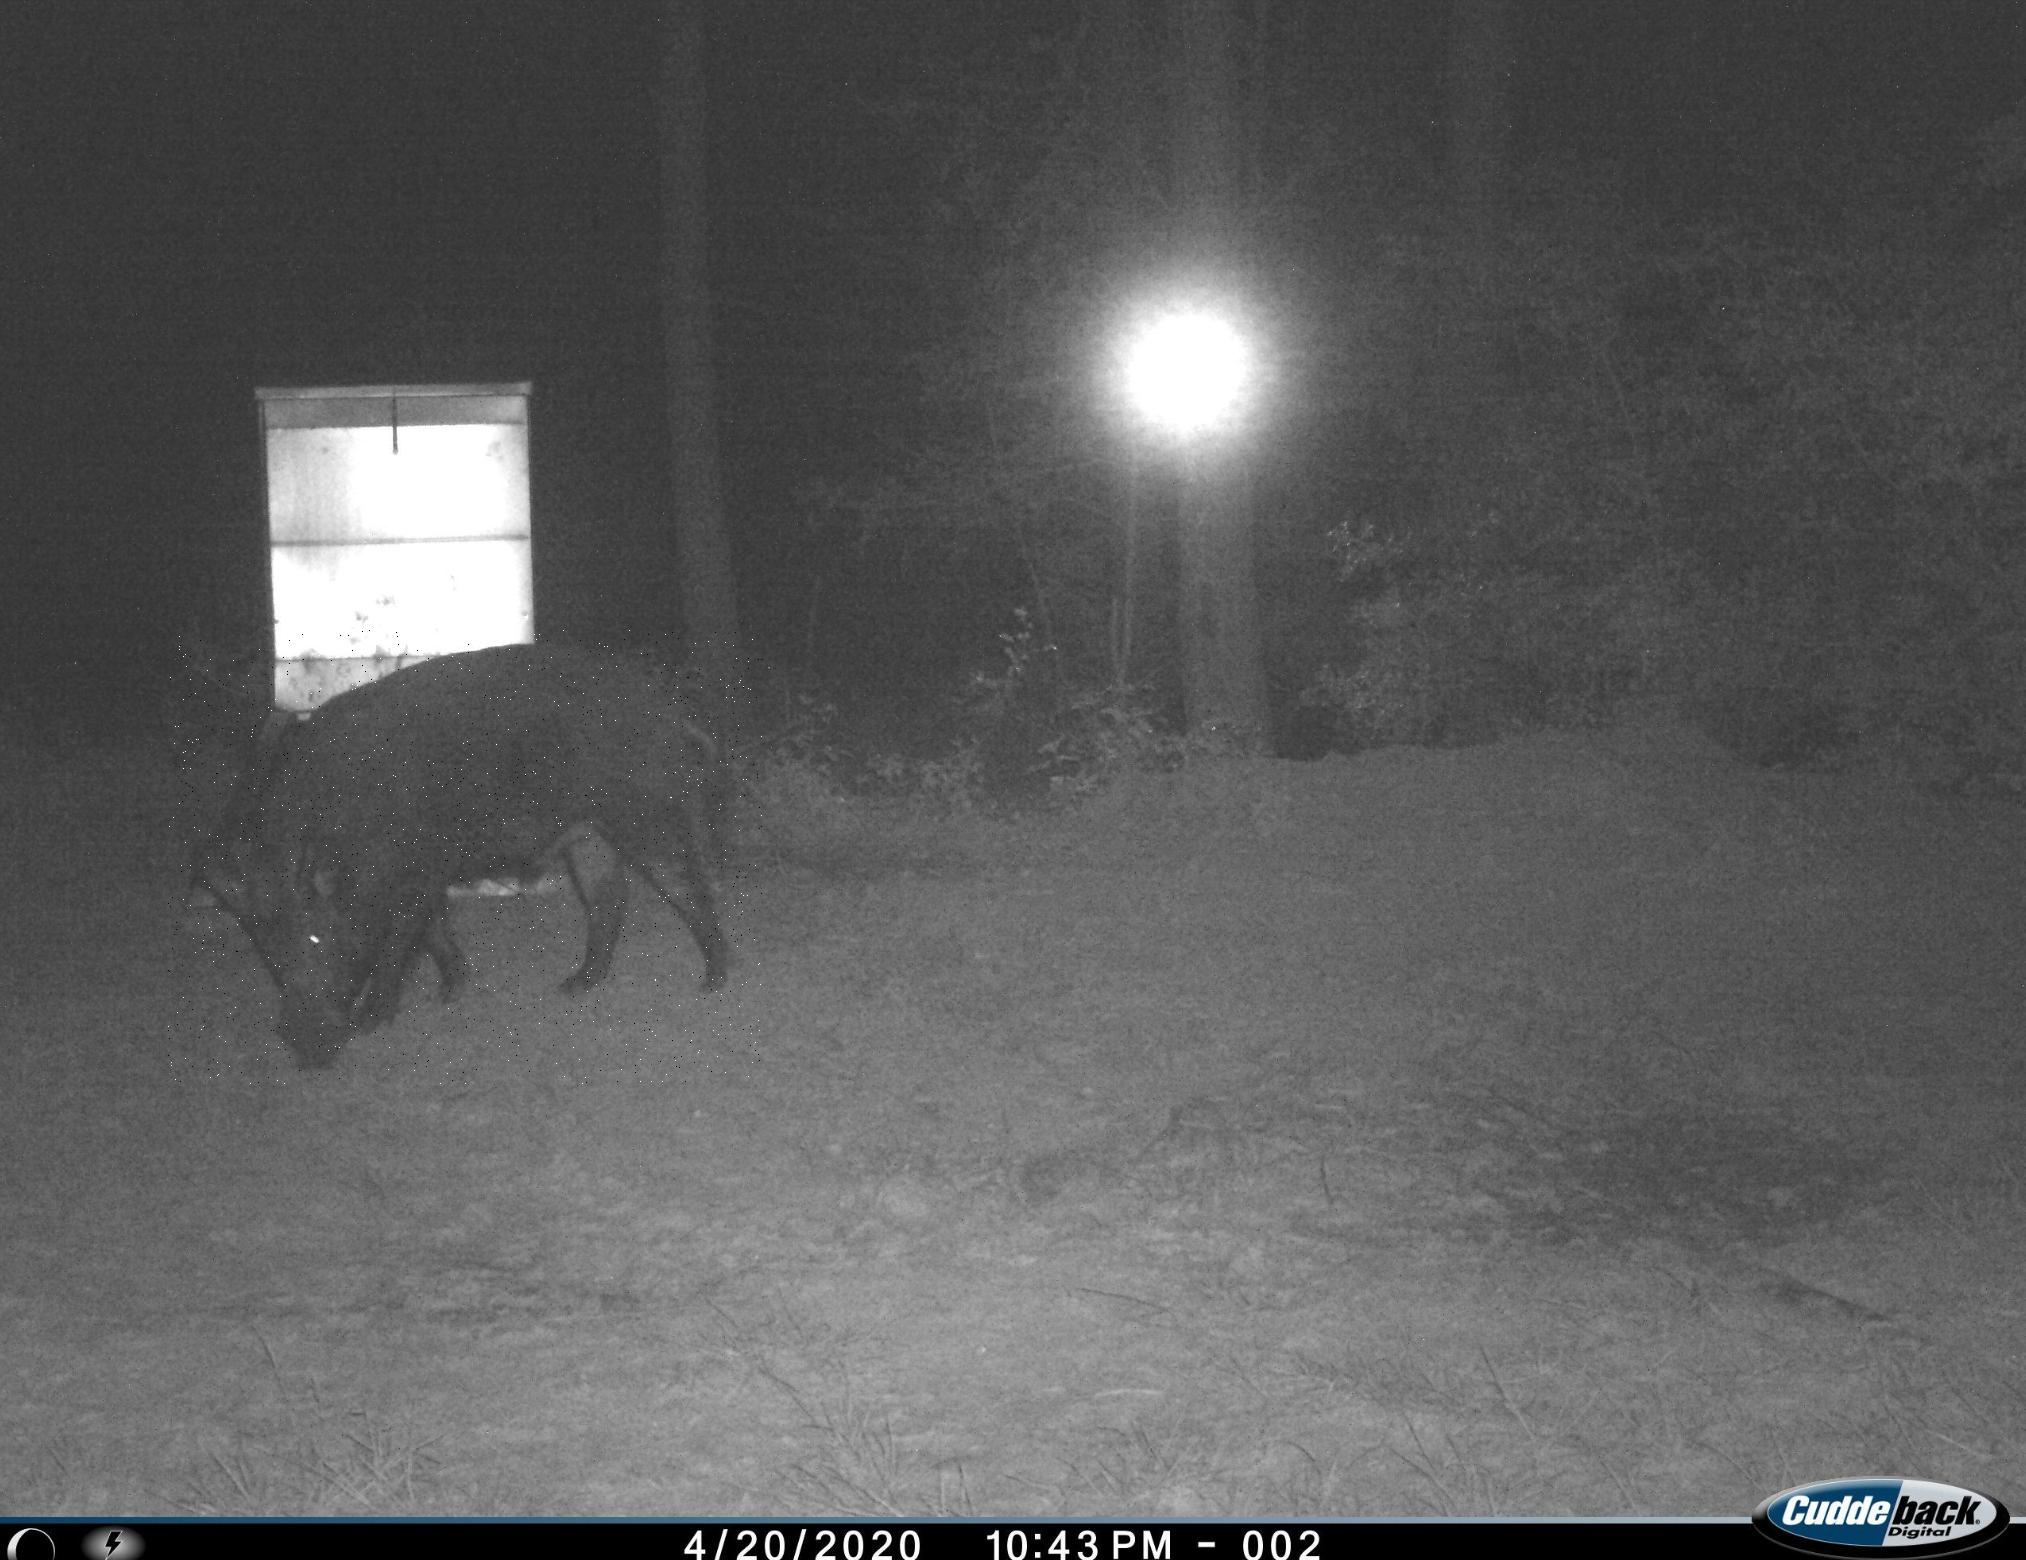Hog: (169, 631, 762, 1083)
